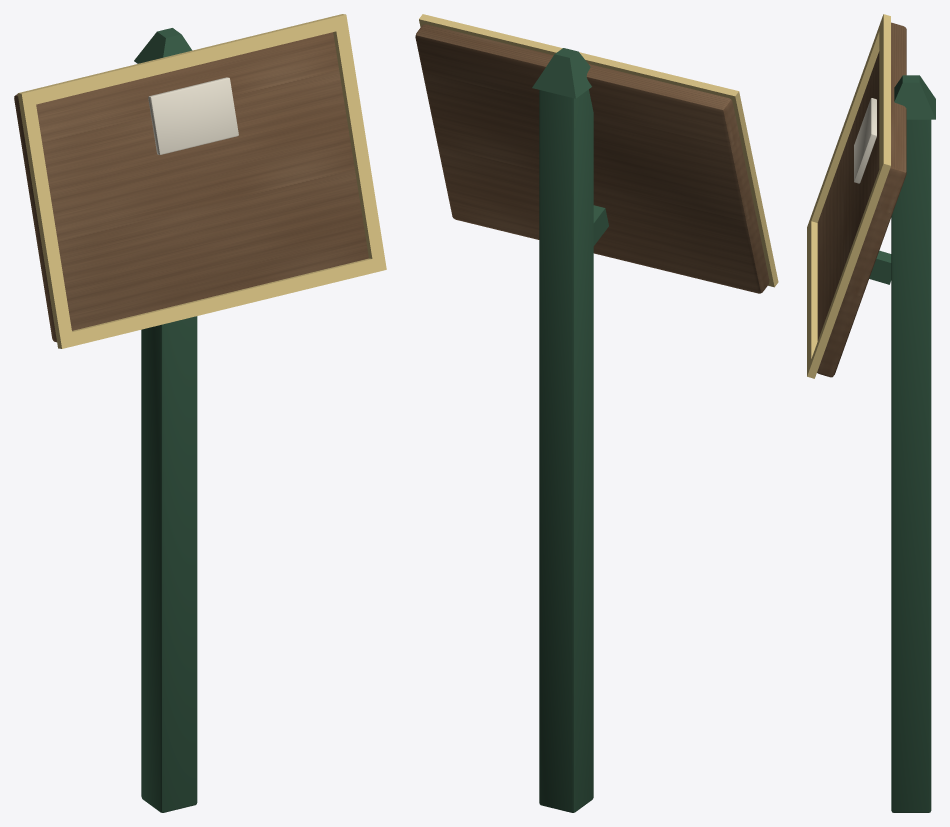
The model's file is tee_sign.glb.
The picture shows the model from 3 angles, left to right: view 1: azimuth 30°, elevation 25°; view 2: azimuth 150°, elevation 25°; view 3: azimuth 270°, elevation 25°; orthographic projection. The views are drawn at different scales.
Parts seen in each view (by area): view 1: tee_sign_body; view 2: tee_sign_body; view 3: tee_sign_body.
Part boxes in pixels (box(x1,y1,x2,y2)): tee_sign_body: box(14, 14, 386, 812); tee_sign_body: box(415, 14, 778, 812); tee_sign_body: box(807, 14, 935, 812).
Size of the model in its own units: 0.53 by 1.2 by 0.1927.
Materials: 4 (1 with a texture image).
